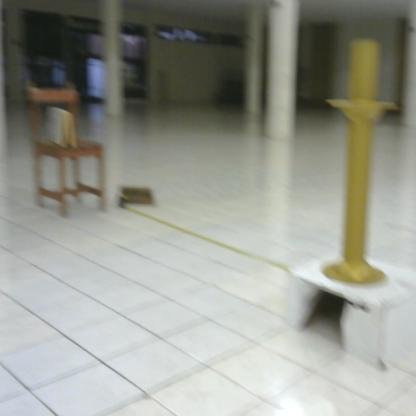pole: (323, 33, 404, 294)
